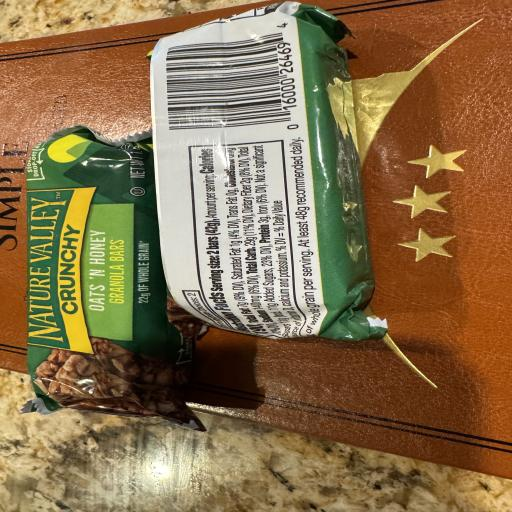granola: (152, 2, 386, 340), (27, 127, 203, 429)
